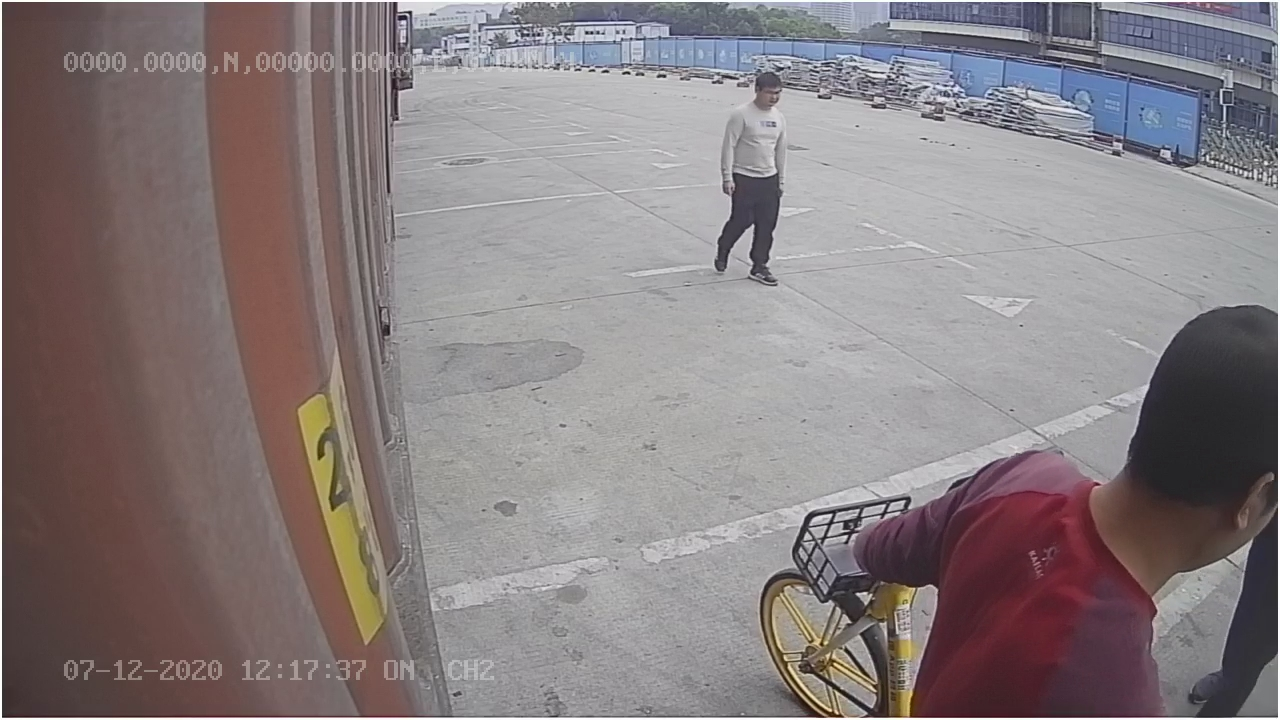person: (709, 60, 791, 291)
